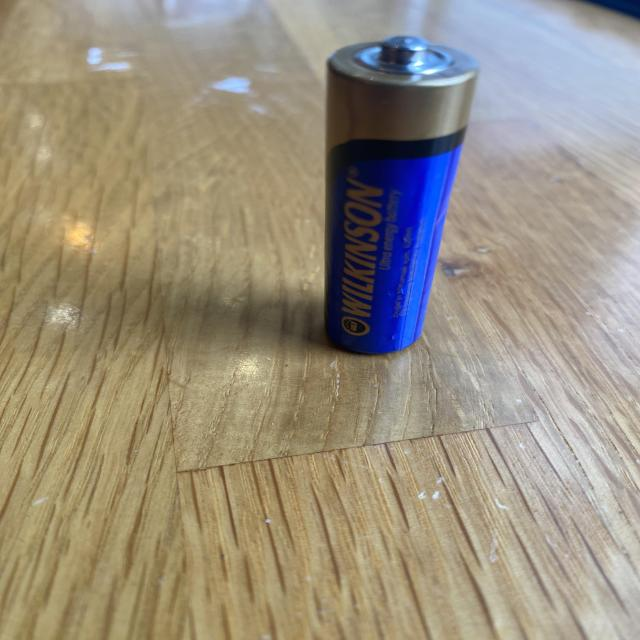AA: (322, 35, 480, 354)
